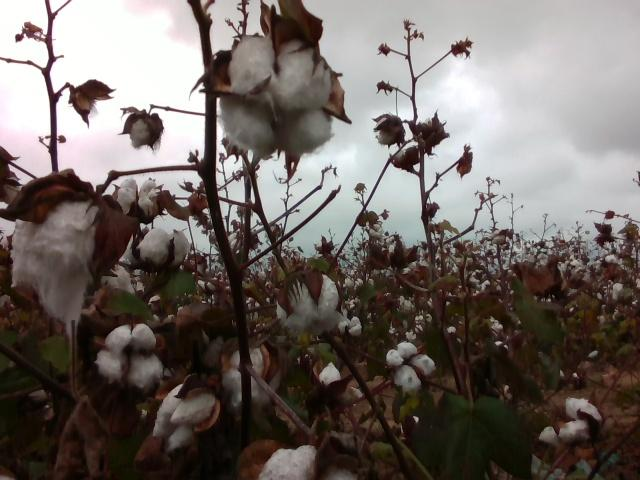cotton_ready: (9, 184, 115, 349), (219, 34, 334, 158), (151, 381, 220, 452), (95, 324, 164, 393), (275, 272, 341, 333), (260, 445, 357, 480), (224, 348, 279, 408), (385, 342, 437, 397), (538, 399, 601, 443), (126, 229, 194, 266), (115, 176, 162, 217), (123, 113, 162, 150), (318, 363, 342, 392)
